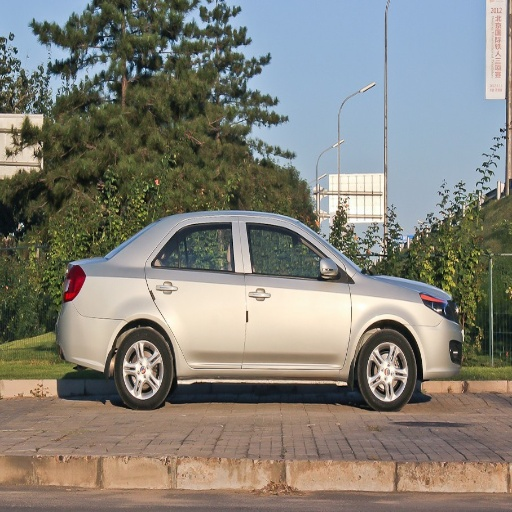back_right_door: (147, 216, 246, 367)
front_right_door: (243, 217, 351, 370)
